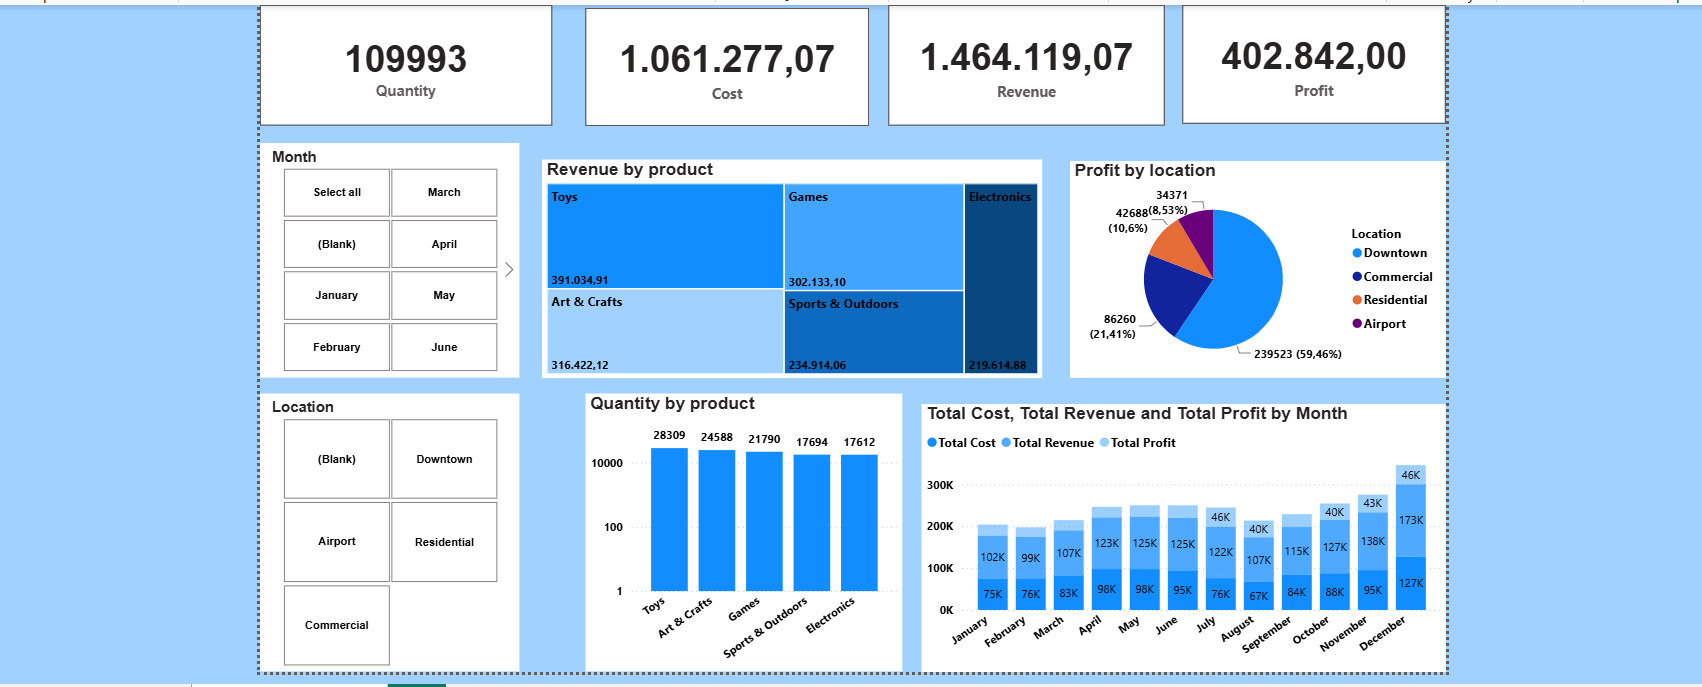

The page's visual inventory and layout, read from the dashboard file:
{"tool":"powerbi","page":{"name":"Sales Dashboard","canvas":[1280,720],"ordinal":0},"visuals":[{"type":"columnChart","title":"Total Cost, Total Revenue and Total Profit by Month","fields":{"Category":["sales.Date.Variation.Date Hierarchy.Month"],"Y":["Sum(sales.Product_cost)","Sum(sales.Product_price)","Sum(sales.Profit)"]},"box":[714,430,566,290],"z":0},{"type":"card","fields":{"Values":["Sum(sales.Product_cost)"]},"box":[352.2,2.4,305.7,127.2],"z":1000},{"type":"card","fields":{"Values":["Sum(sales.Product_price)"]},"box":[678,0,298,130],"z":2000},{"type":"card","fields":{"Values":["Sum(sales.Profit)"]},"box":[996,0,284,128],"z":3000},{"type":"columnChart","title":"Quantity by product","fields":{"Category":["sales.Product_category"],"Y":["Sum(sales.Units)"]},"box":[352,420,342,300],"z":4000},{"type":"pieChart","title":"Profit by location","fields":{"Category":["sales.Store_location"],"Y":["Sum(sales.Profit)"]},"box":[874,168,406,234],"z":5000},{"type":"treemap","title":"Revenue by product","fields":{"Values":["Sum(sales.Product_price)"],"Group":["sales.Product_category"]},"box":[304,166,540,236],"z":6000},{"type":"slicer","fields":{"Values":["sales.Date.Variation.Date Hierarchy.Month"]},"box":[0,149.2,280,253.1],"z":7000},{"type":"slicer","fields":{"Values":["sales.Store_location"]},"box":[0,420,280,300],"z":8000},{"type":"card","fields":{"Values":["Sum(sales.Units)"]},"box":[0,0,315,130],"z":9000}]}

Visuals, with their boxes on the page's 1280x720 design canvas (x1, y1, x2, y2). These are canvas units, not pixel positions in the 1702x687 screenshot, which may show the page scaled, cropped or inside an application window:
"Total Cost, Total Revenue and Total Profit by Month" columnChart: (714, 430, 1280, 720)
card - Sum(sales.Product_cost): (352, 2, 658, 130)
card - Sum(sales.Product_price): (678, 0, 976, 130)
card - Sum(sales.Profit): (996, 0, 1280, 128)
"Quantity by product" columnChart: (352, 420, 694, 720)
"Profit by location" pieChart: (874, 168, 1280, 402)
"Revenue by product" treemap: (304, 166, 844, 402)
slicer - sales.Date.Variation.Date Hierarchy.Month: (0, 149, 280, 402)
slicer - sales.Store_location: (0, 420, 280, 720)
card - Sum(sales.Units): (0, 0, 315, 130)
